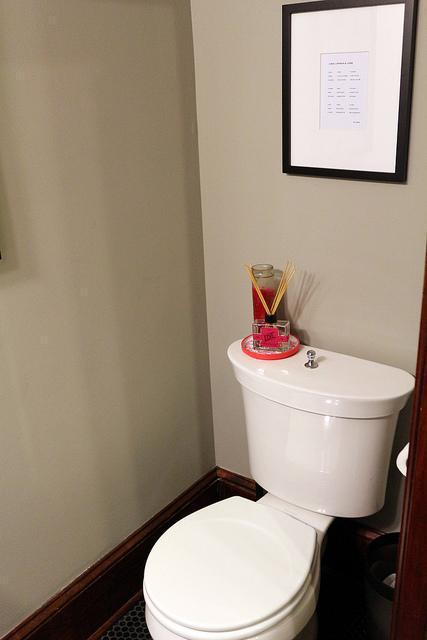Sanitario: (138, 355, 411, 636)
